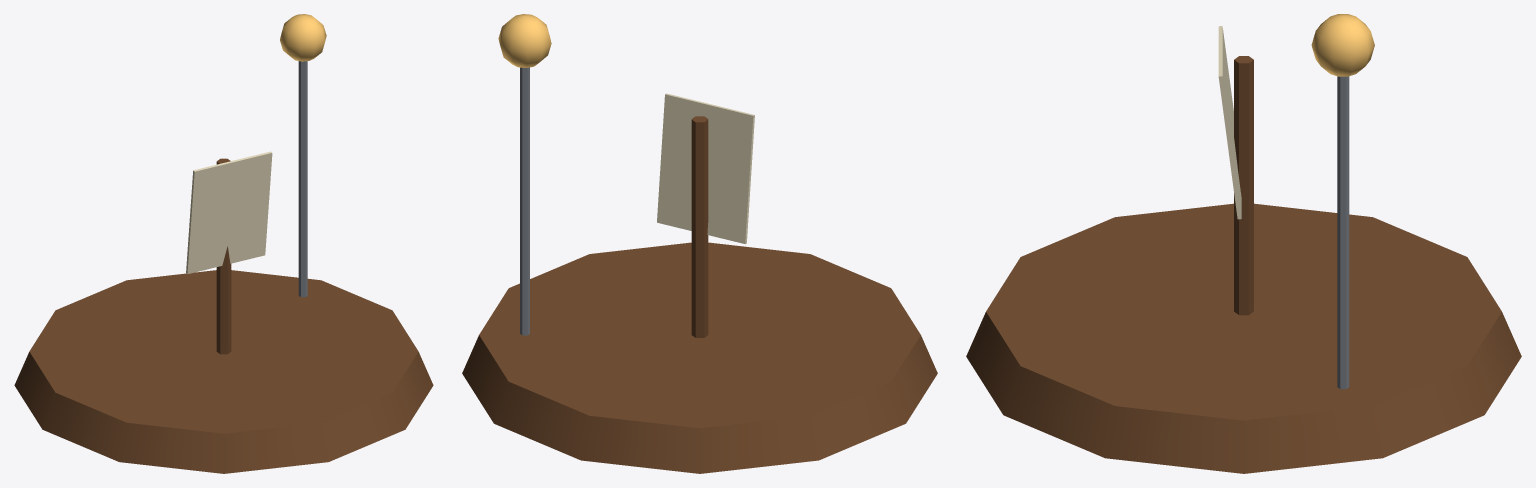
Rendered from notiz.obj.
3 renders of one model, left to right at view 1: azimuth 30°, elevation 25°; view 2: azimuth 150°, elevation 25°; view 3: azimuth 270°, elevation 25°, orthographic. The views are drawn at different scales.
Parts seen in each view (by area): view 1: notiz; view 2: notiz; view 3: notiz.
Boxes of the visible parts, x1,y1,x2,y2 form: notiz: [14, 14, 433, 473]; notiz: [462, 14, 937, 473]; notiz: [966, 14, 1521, 473].
Size of the model in its own units: 2.8 by 2.31 by 2.8.
